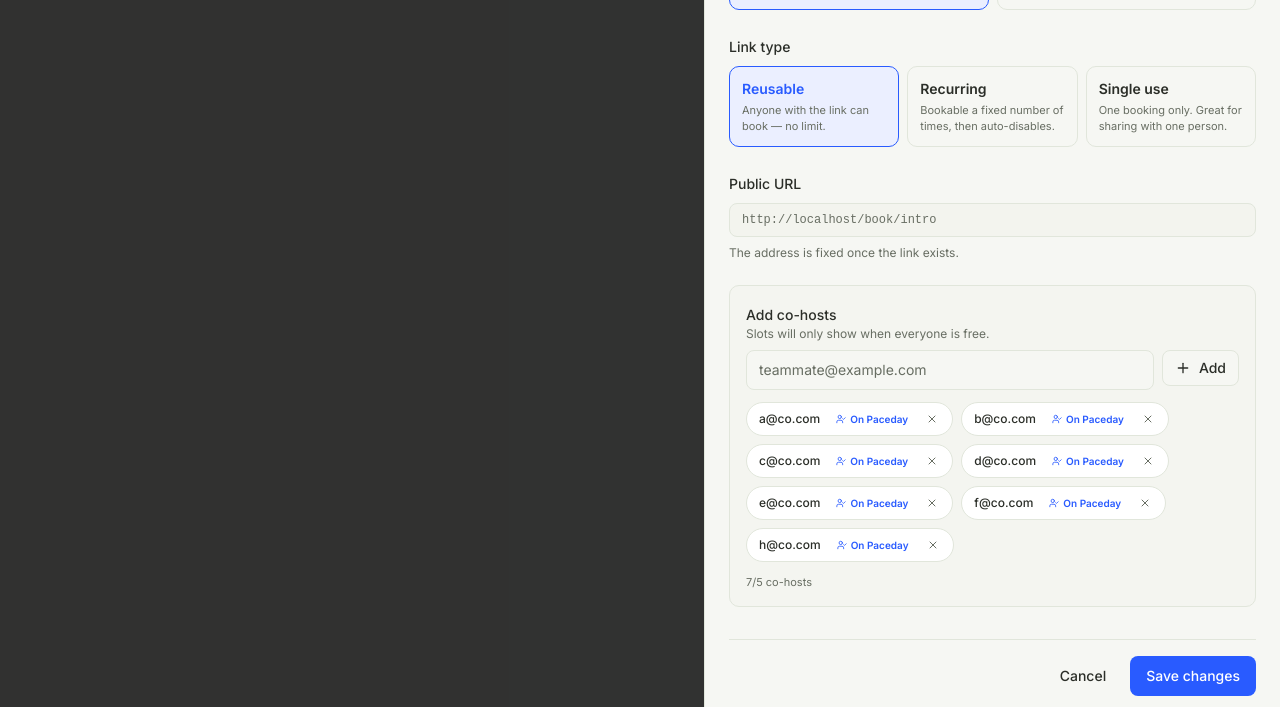
Test: chips (contract §5.2) › AC-33: on a link with 7 co-hosts, the hydrated chips are shown and adding G is refused at the cap
(page scrolled)
Type "g@co.com" into the field named "Co-host email" at (950, 370), box [746,350,1154,390]
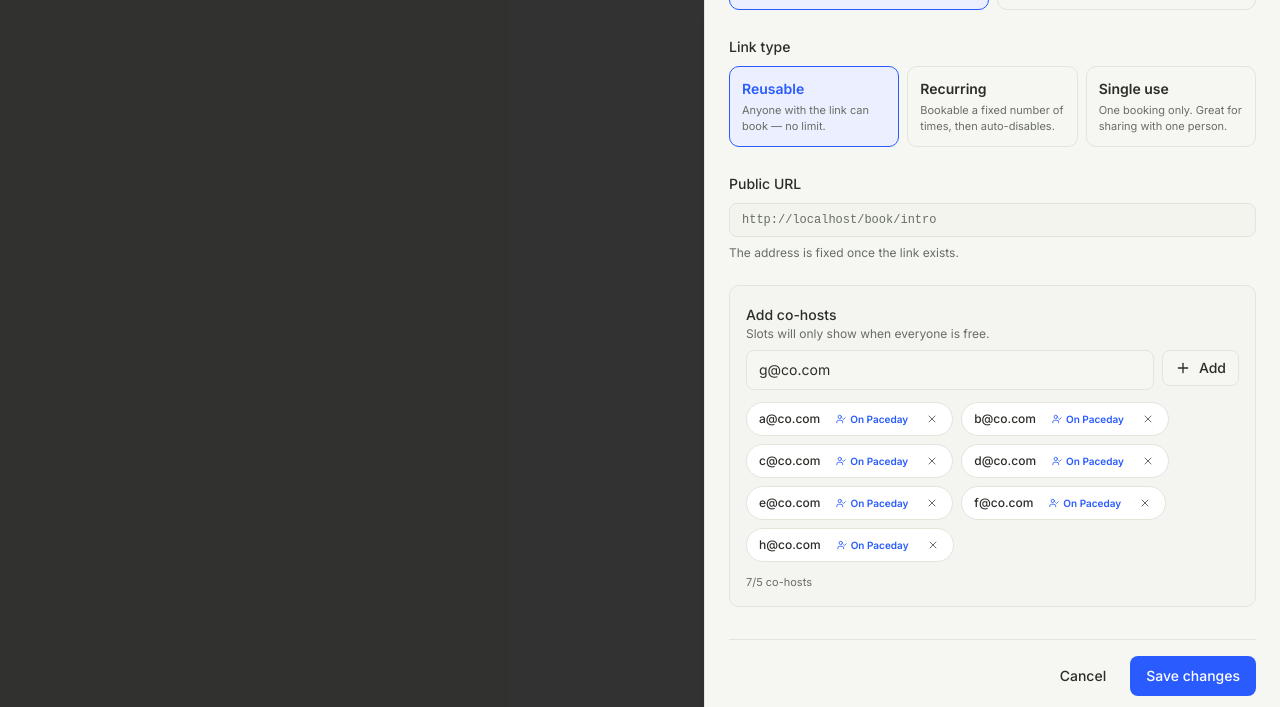
Click the button "Add" at (1200, 368), box [1162,350,1239,386]
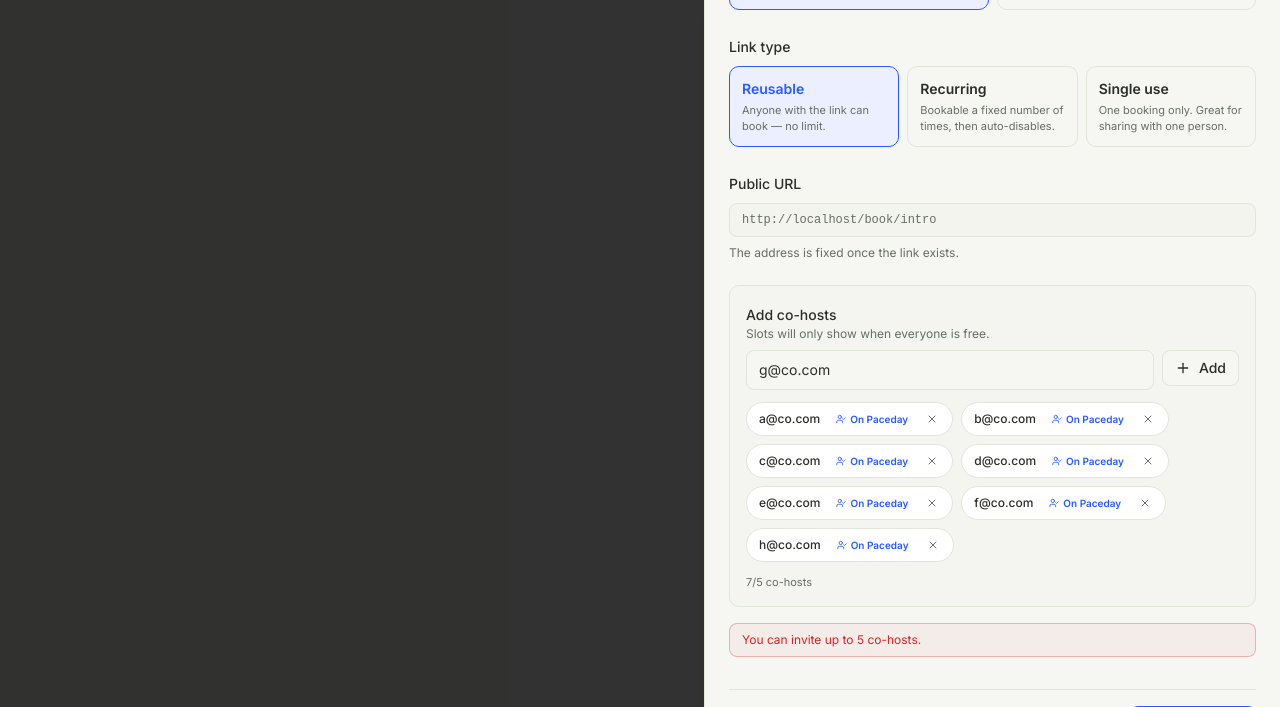
Check: the text "g@co.com" is not shown
Check: the message reads "You can invite up to 5 co-hosts.", box [742,632,921,647]
